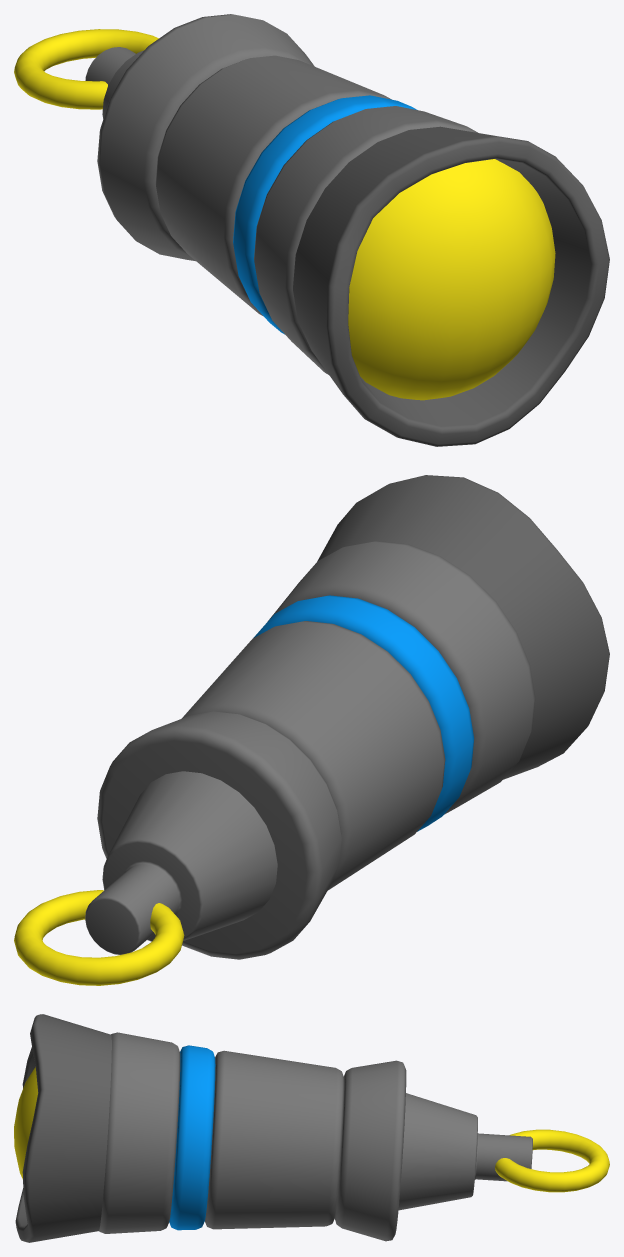
File: Public_16_Police_Flashlight_1.glb
The picture shows the model from 3 angles, top to bottom: view 1: azimuth 30°, elevation 25°; view 2: azimuth 150°, elevation 25°; view 3: azimuth 270°, elevation 25°; orthographic projection. The views are drawn at different scales.
Visible parts, largest first — view 1: Public_16_Police_Flashlight_1; view 2: Public_16_Police_Flashlight_1; view 3: Public_16_Police_Flashlight_1.
Part boxes in pixels (x1,y1,x2,y2): Public_16_Police_Flashlight_1: (14, 14, 609, 446); Public_16_Police_Flashlight_1: (14, 475, 609, 985); Public_16_Police_Flashlight_1: (14, 1014, 609, 1242).
Bounding box in the file's own units: 0.7337 × 0.7354 × 1.9.
1 material, 1 textured.
